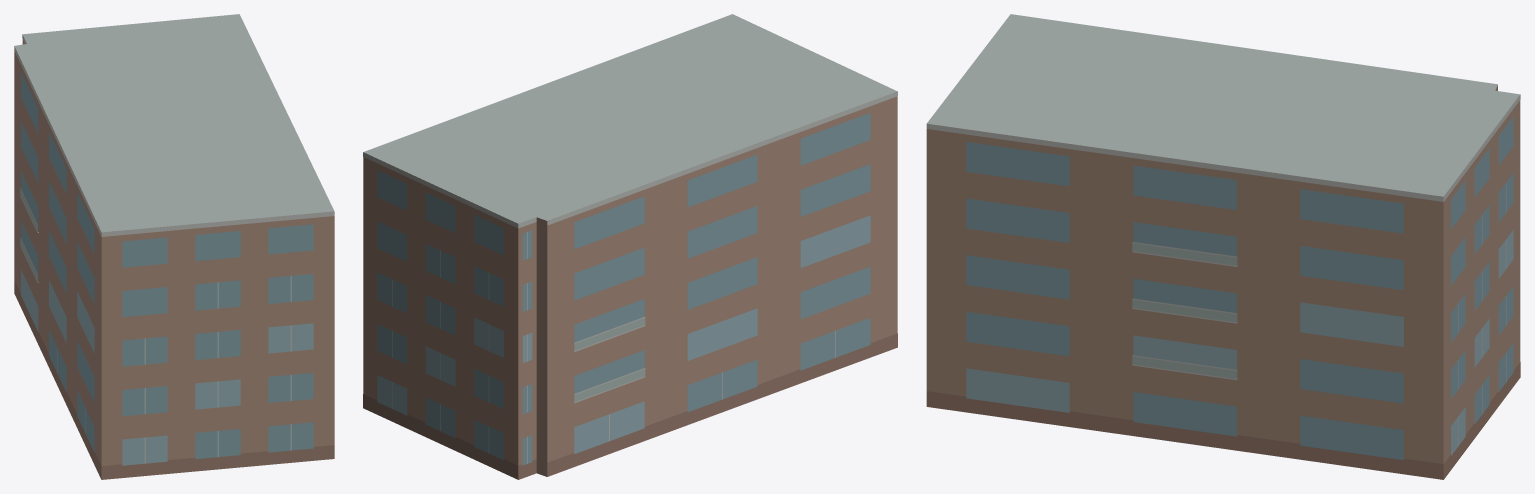
Rendered from survey-upis-32686463.glb.
3 views of the same model, side by side, from view 1: azimuth 30°, elevation 25°; view 2: azimuth 150°, elevation 25°; view 3: azimuth 270°, elevation 25° (orthographic). The views are drawn at different scales.
Parts seen in each view (by area): view 1: survey-upis-32686463.tmp; view 2: survey-upis-32686463.tmp; view 3: survey-upis-32686463.tmp.
Boxes of the visible parts, x1,y1,x2,y2 form: survey-upis-32686463.tmp: (14, 14, 334, 479); survey-upis-32686463.tmp: (363, 14, 897, 479); survey-upis-32686463.tmp: (926, 14, 1520, 479).
Size of the model in its own units: 18.28 by 13.2 by 25.1.
